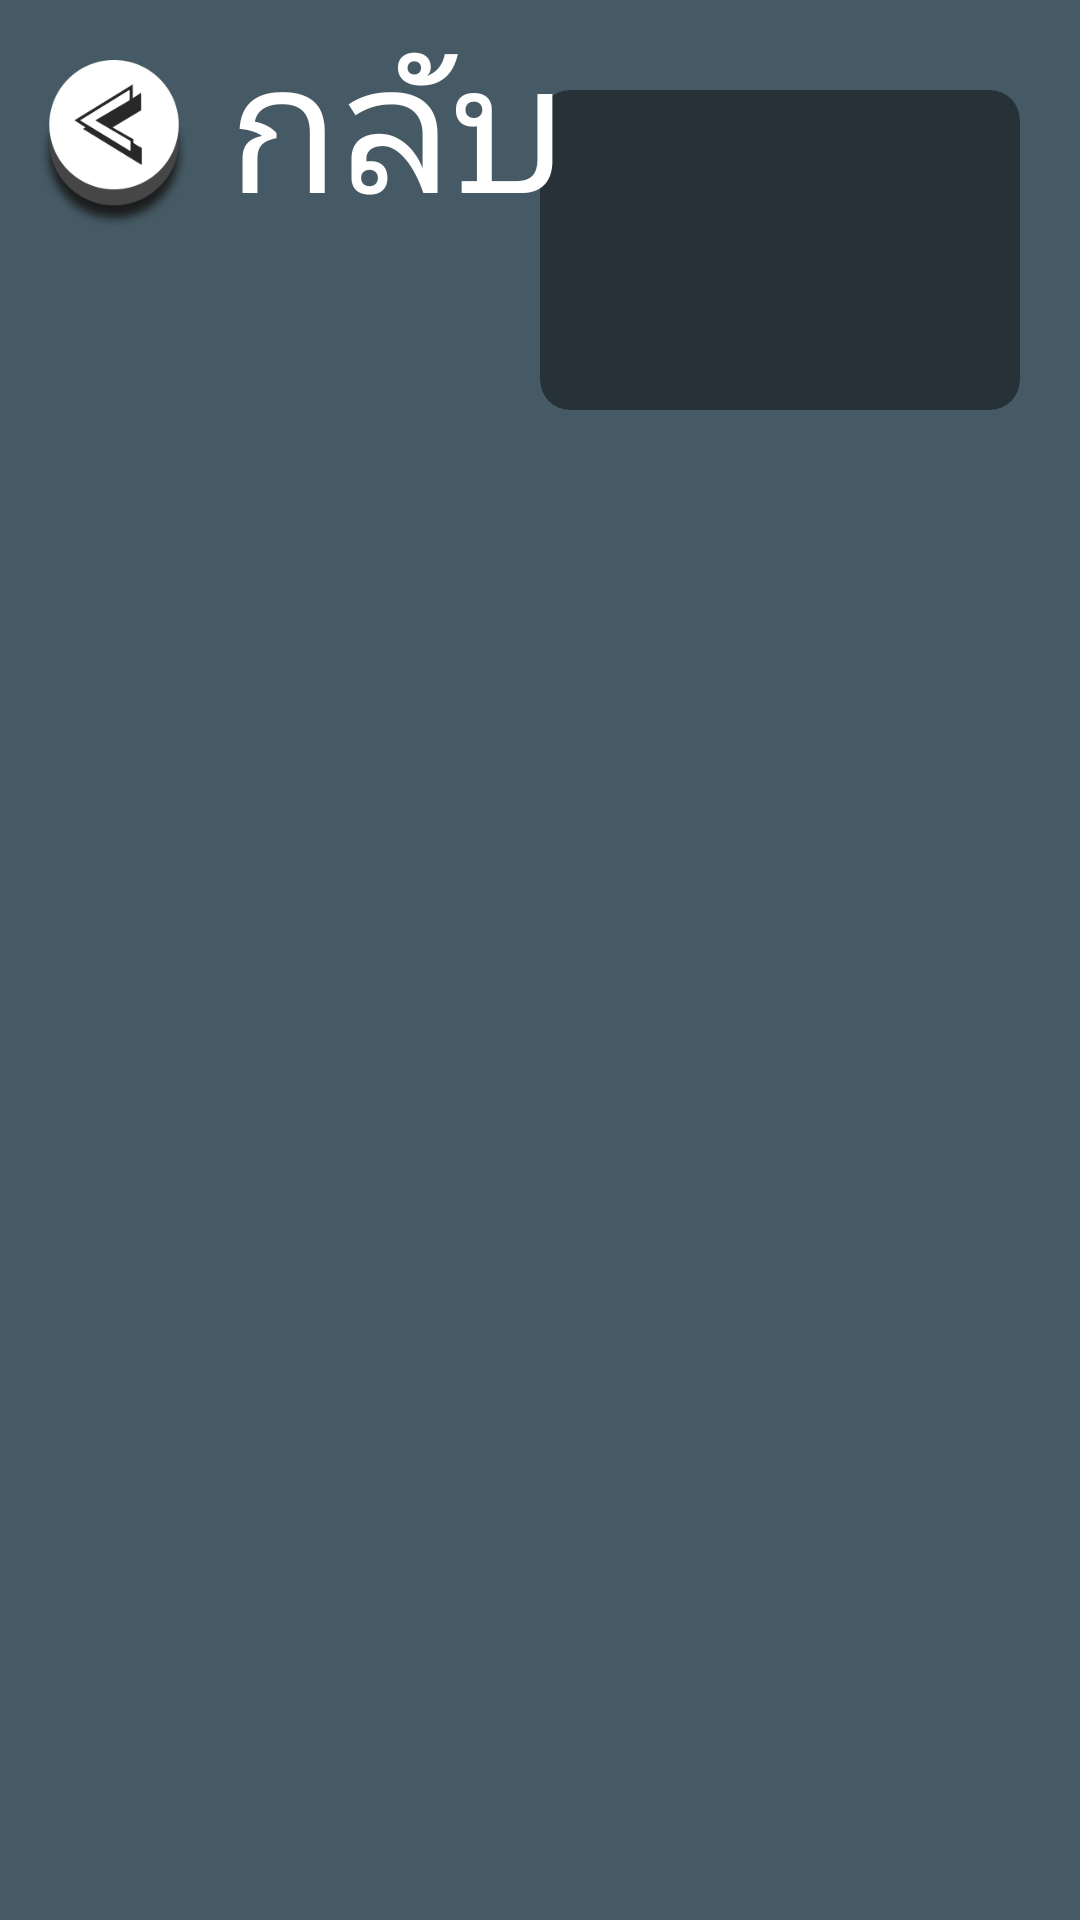

Screen size 1080x1920. Icon name, then its center in pixels as point (x, y):
back lesson: point (114, 140)
